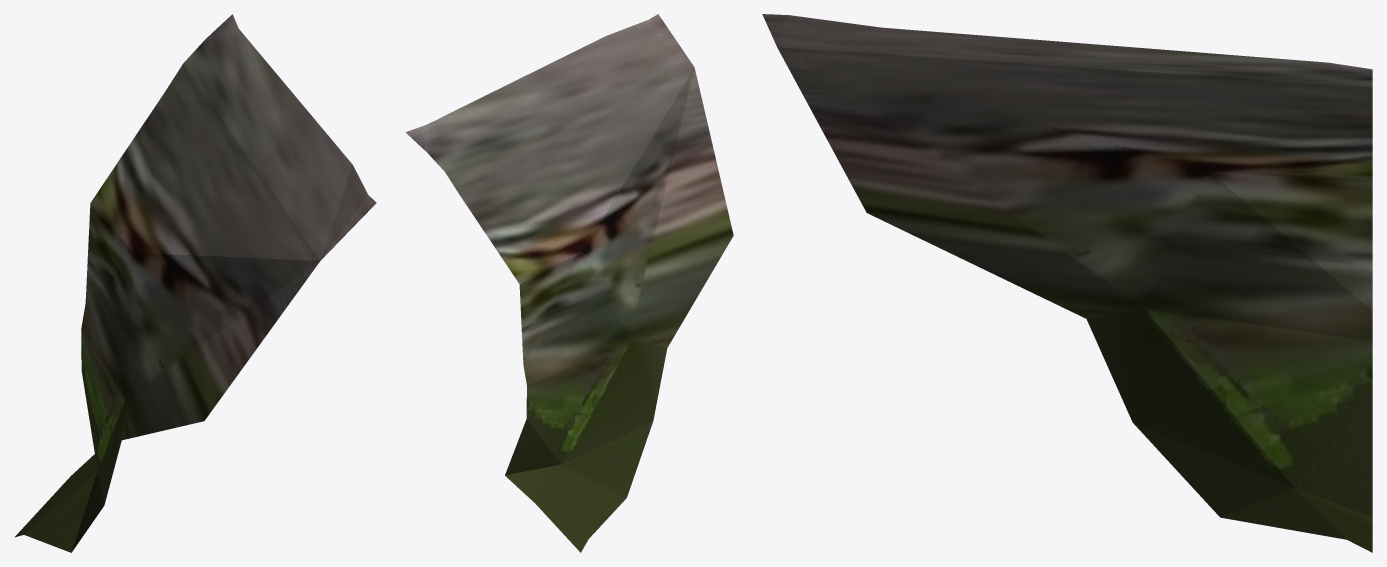
The picture shows the model from 3 angles, left to right: view 1: azimuth 30°, elevation 25°; view 2: azimuth 150°, elevation 25°; view 3: azimuth 270°, elevation 25°; orthographic projection. The views are drawn at different scales.
Bounding box in the file's own units: 0.6595 × 1.36 × 1.2.
Materials: 1 (1 with a texture image).
